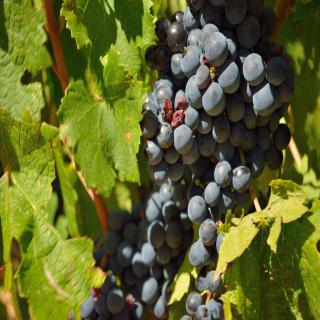Grape: (78, 0, 296, 320)
